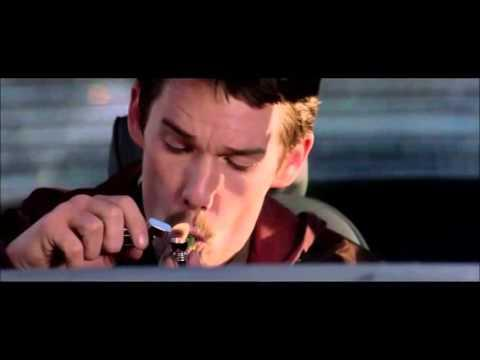smoking: (145, 213, 211, 276)
